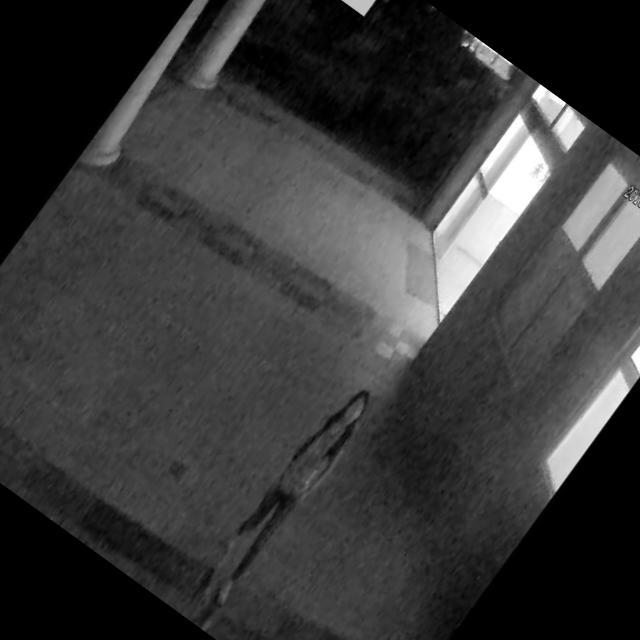person: (190, 372, 383, 614)
